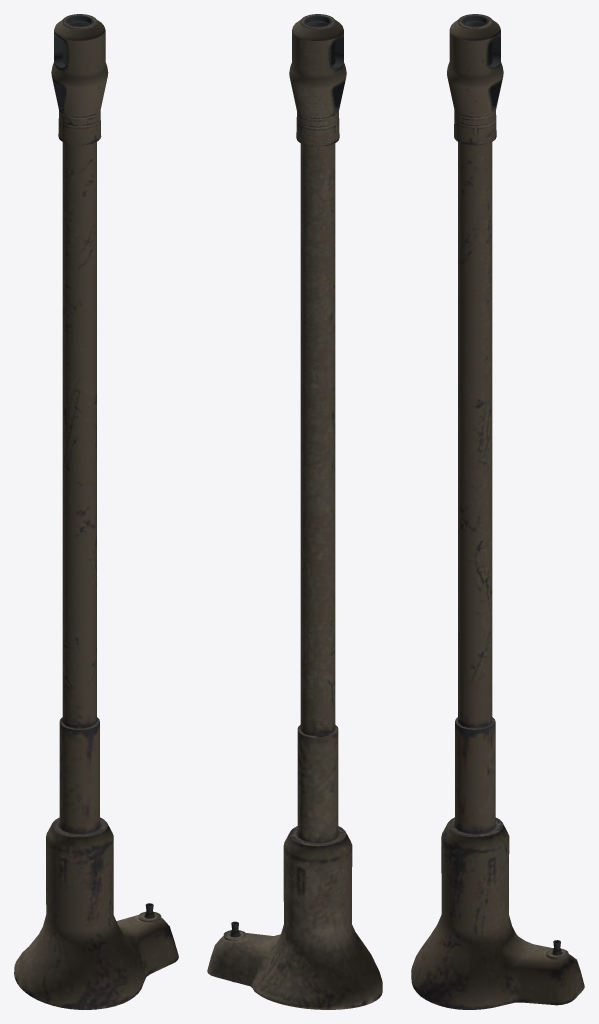
Rendered from Gun_02.glb.
The picture shows the model from 3 angles, left to right: view 1: azimuth 30°, elevation 25°; view 2: azimuth 150°, elevation 25°; view 3: azimuth 330°, elevation 25°; orthographic projection.
Visible parts, largest first — view 1: set_0_group_0; view 2: set_0_group_0; view 3: set_0_group_0.
Part boxes in pixels (x1,y1,x2,y2): set_0_group_0: (14,14,178,1009); set_0_group_0: (207,14,382,1009); set_0_group_0: (411,14,584,1009).
Bounding box in the file's own units: 0.812 × 4.85 × 0.591.
Materials: 1 (1 with a texture image).
